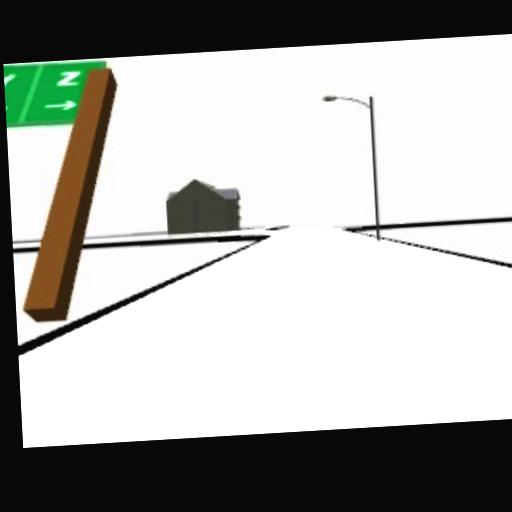Right: (42, 98, 77, 111)
Y: (4, 72, 15, 89)
Z: (54, 68, 83, 88)
